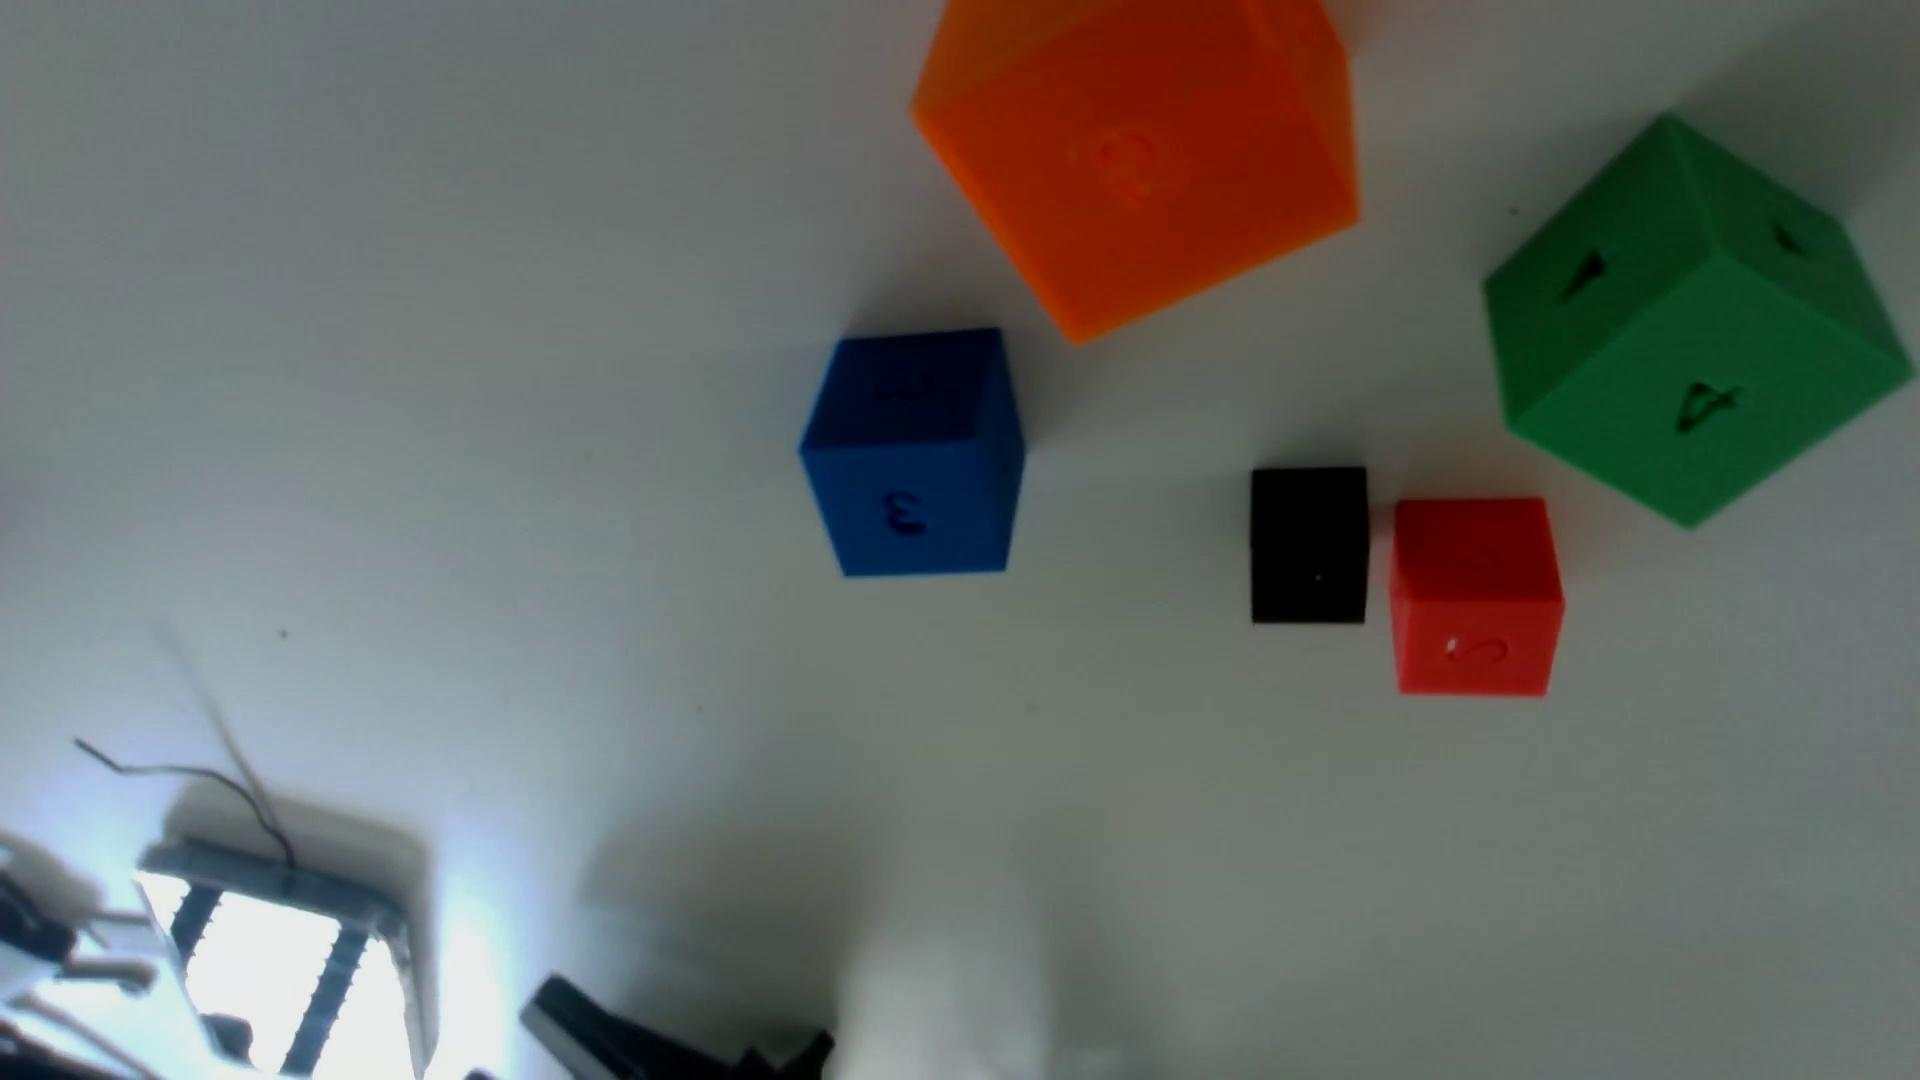black: (1249, 465, 1370, 624)
blue: (800, 327, 1026, 576)
green: (1484, 117, 1913, 526)
orange: (913, 0, 1360, 342)
red: (1389, 495, 1565, 696)
